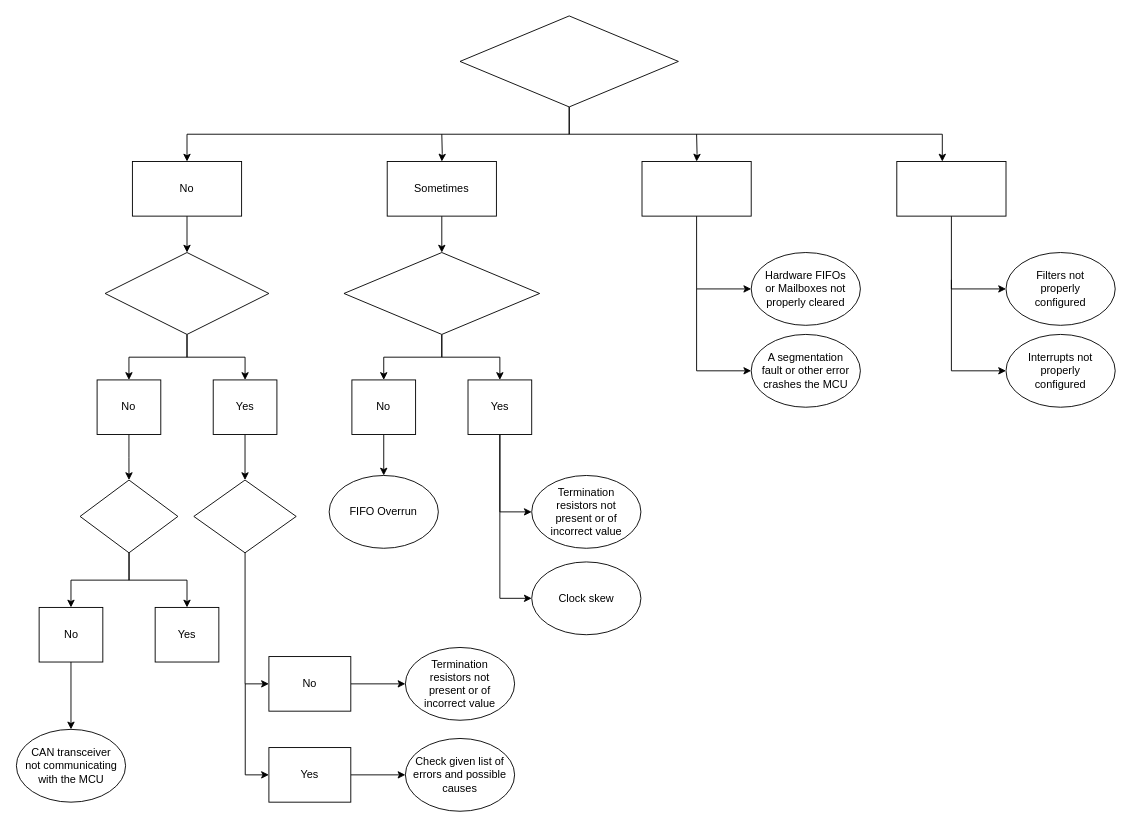
Image size: 1131x827. Some labels were removed from this diagram. Here are the shapes that lost their labels. From the top down, the centre of each, then its label:
(x=568, y=61): Are messages being received and transmitted?
(x=696, y=188): Yes but after a while it hangs
(x=951, y=188): Yes, but only transmitted or only received
(x=186, y=293): ls the peripheral initializing correctly?
(x=441, y=293): Does the problem persist at slow transmission rates?
(x=128, y=516): HAL_CAN_Init
(x=244, y=516): Are errors being raised?
